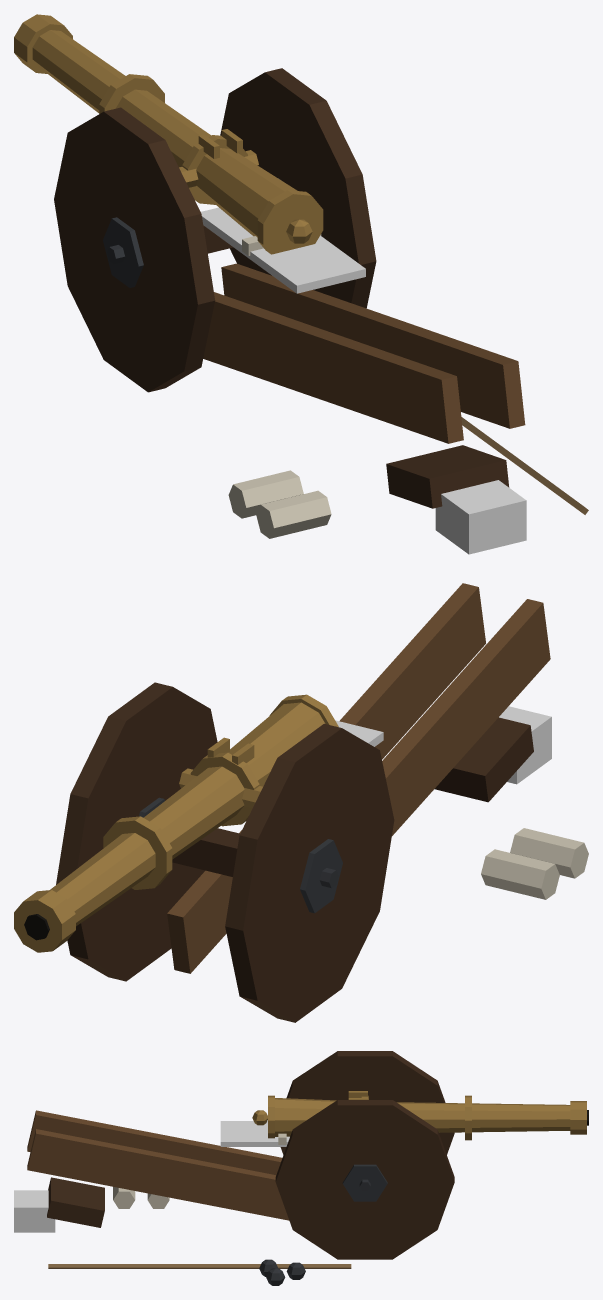
File: art_culverin_em.glb
3 renders of one model, top to bottom at view 1: azimuth 30°, elevation 25°; view 2: azimuth 150°, elevation 25°; view 3: azimuth 270°, elevation 25°, orthographic. The views are drawn at different scales.
Parts seen in each view (by area): view 1: art_culverin_em; view 2: art_culverin_em; view 3: art_culverin_em.
Part boxes in pixels (x1=…): art_culverin_em: x1=14, y1=14, x2=588, y2=554; art_culverin_em: x1=14, y1=583, x2=588, y2=1022; art_culverin_em: x1=14, y1=1051, x2=588, y2=1285.
Bounding box in the file's own units: 1.66 × 1.27 × 4.18.
